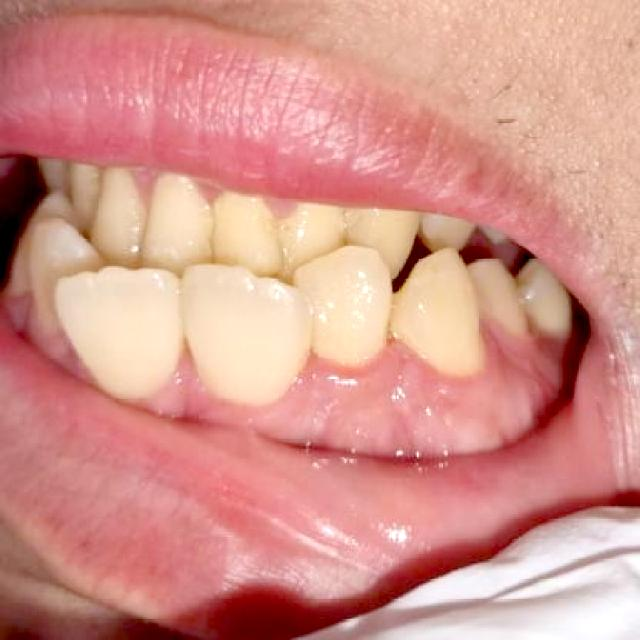Plaque: (177, 315, 505, 430), (127, 168, 170, 210), (258, 198, 295, 219), (189, 180, 220, 205)
